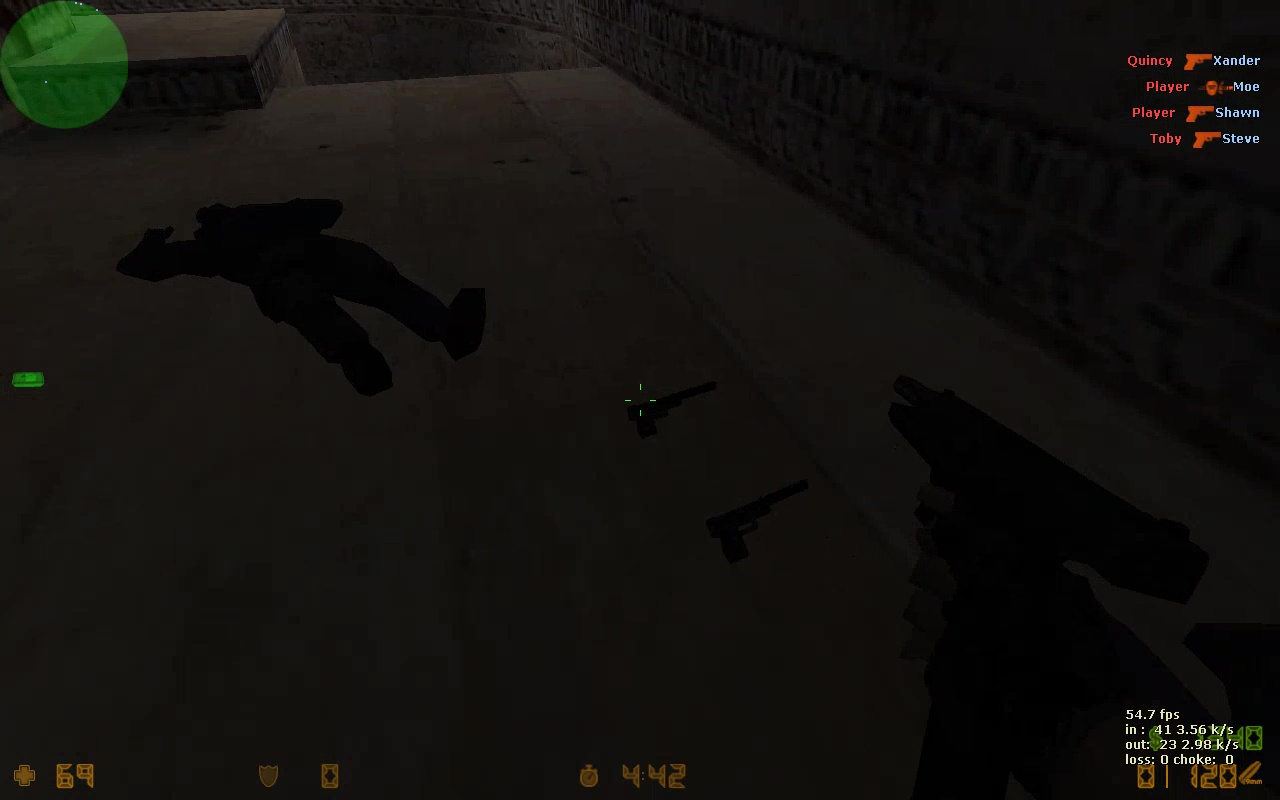dead: (117, 196, 490, 405)
